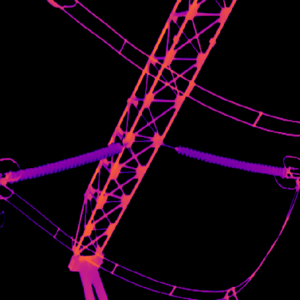insulator: (7, 139, 122, 184), (174, 142, 286, 179)
